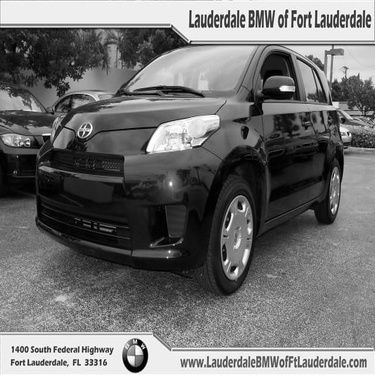car: (43, 47, 348, 289), (1, 78, 69, 171), (44, 72, 130, 115)
